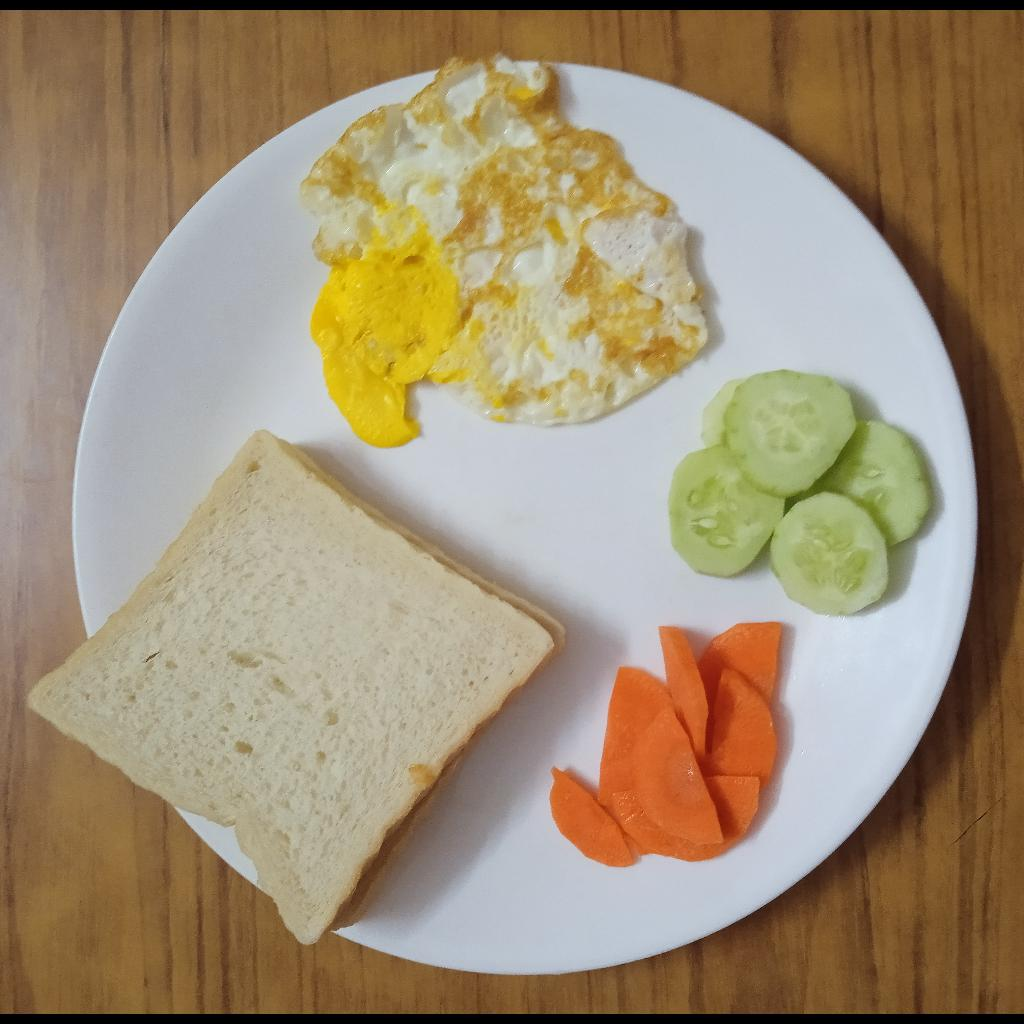bread: (23, 426, 572, 943)
carrot: (546, 622, 781, 870)
cucumber: (663, 368, 935, 616)
egg-poached: (296, 49, 706, 451)
